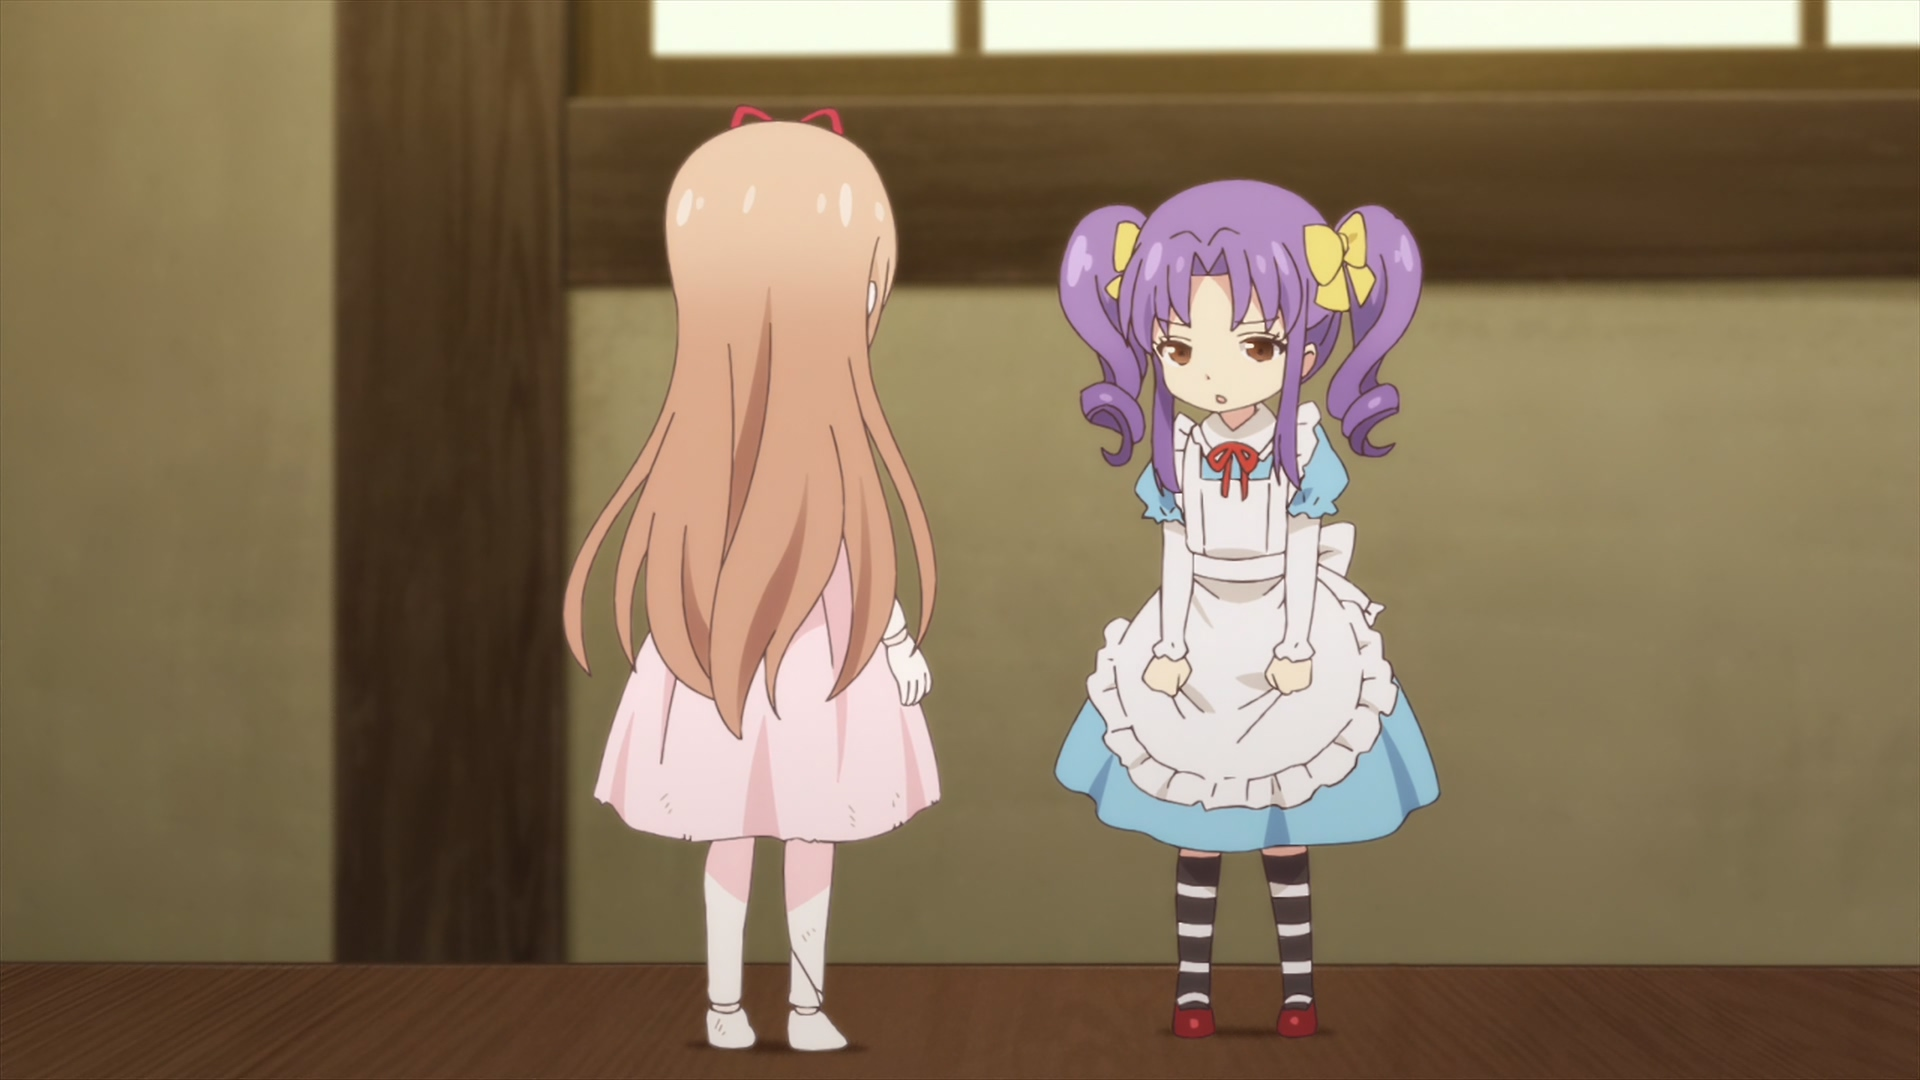其他: (564, 108, 939, 1052)
阿菊: (1060, 179, 1441, 1039)
